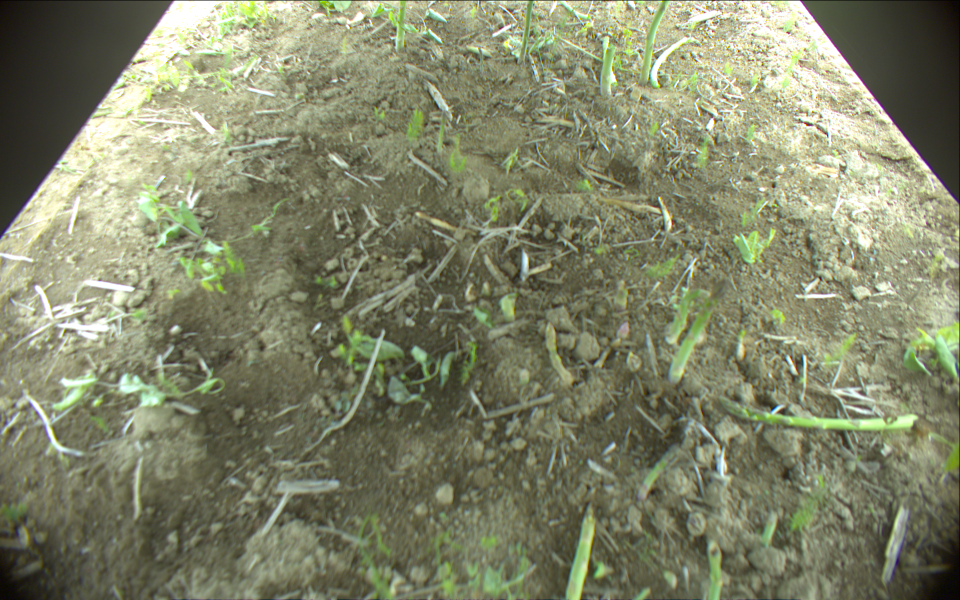aspa: (668, 276, 730, 380), (720, 397, 917, 429), (564, 512, 597, 600), (649, 35, 700, 89), (637, 442, 682, 501), (641, 1, 667, 84), (663, 287, 700, 345), (704, 539, 723, 600), (599, 42, 616, 97), (518, 1, 533, 63), (395, 1, 407, 50), (763, 510, 779, 542), (613, 284, 628, 314)
